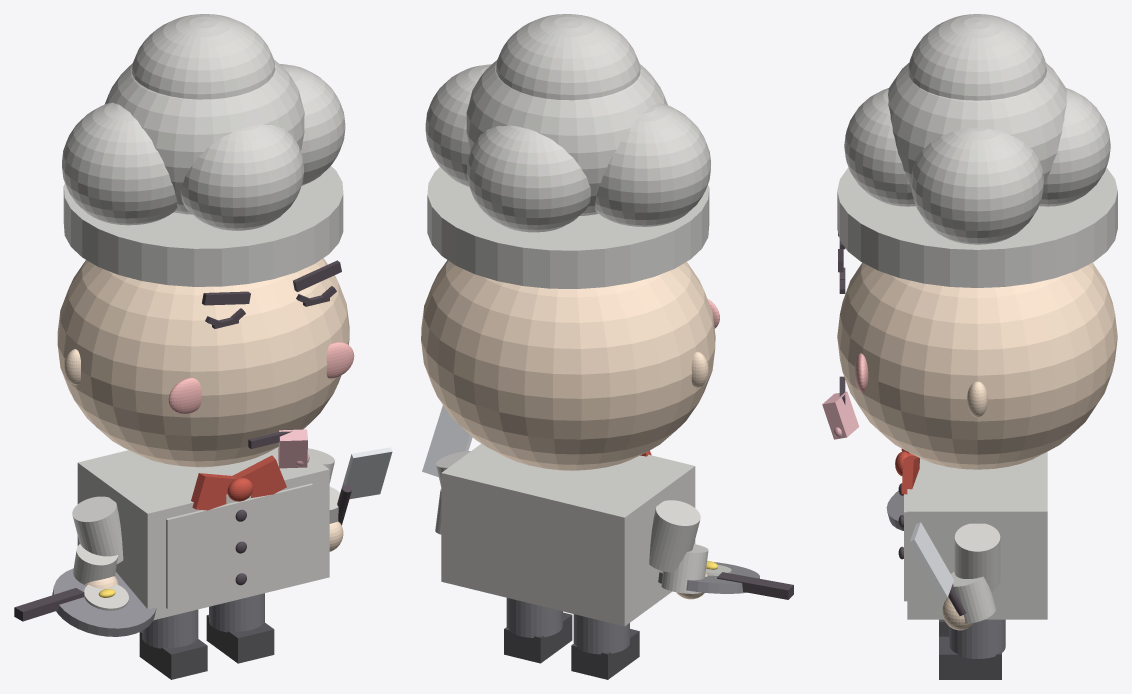
File: chef.glb
3 views of the same model, side by side, from view 1: azimuth 30°, elevation 25°; view 2: azimuth 150°, elevation 25°; view 3: azimuth 270°, elevation 25° (orthographic).
Parts seen in each view (by area): view 1: Head, HatBand, Coat, CoatFront, HatPuff_L, HatPuff_C, HatPuff_F, HatPuff_Top, HatPuff_R, PanBody, UpperArm_L, Shoe_L (+14 smaller); view 2: Head, Coat, HatBand, HatPuff_L, HatPuff_C, HatPuff_B, HatPuff_Top, HatPuff_R, UpperArm_L, Leg_L, Leg_R, Shoe_L (+5 smaller); view 3: Head, HatBand, Coat, HatPuff_R, HatPuff_C, HatPuff_Top, HatPuff_F, HatPuff_B, UpperArm_R, Leg_R, Shoe_R, Forearm_R (+6 smaller).
Part boxes in pixels (x1,y1,x2,y2): Head: (57, 258, 349, 467); HatBand: (63, 166, 343, 286); Coat: (77, 447, 329, 620); CoatFront: (166, 483, 313, 608); HatPuff_L: (62, 102, 177, 225); HatPuff_C: (104, 60, 304, 214); HatPuff_F: (181, 124, 303, 230); HatPuff_Top: (132, 14, 275, 99); HatPuff_R: (280, 64, 345, 185); PanBody: (52, 568, 156, 636); UpperArm_L: (72, 496, 123, 563); Shoe_L: (139, 631, 207, 679); Head: (421, 260, 715, 470); Coat: (441, 443, 695, 626); HatBand: (427, 167, 709, 288); HatPuff_L: (595, 103, 710, 226); HatPuff_C: (466, 60, 667, 215); HatPuff_B: (467, 125, 590, 232); HatPuff_Top: (496, 14, 640, 100); HatPuff_R: (425, 64, 491, 186); UpperArm_L: (649, 500, 700, 572); Leg_L: (573, 614, 629, 654); Leg_R: (506, 598, 562, 637); Shoe_L: (571, 629, 639, 679); Head: (837, 262, 1117, 469); HatBand: (837, 167, 1117, 287); Coat: (907, 452, 1047, 619); HatPuff_R: (911, 128, 1043, 244); HatPuff_C: (888, 62, 1066, 185); HatPuff_Top: (908, 14, 1046, 100); HatPuff_F: (844, 88, 915, 206); HatPuff_B: (1039, 88, 1110, 206); UpperArm_R: (954, 523, 1000, 591); Leg_R: (949, 619, 1005, 658); Shoe_R: (939, 636, 1001, 679); Forearm_R: (951, 572, 995, 623).
Bounding box in the file's own units: 1.21 × 2 × 0.8472.
